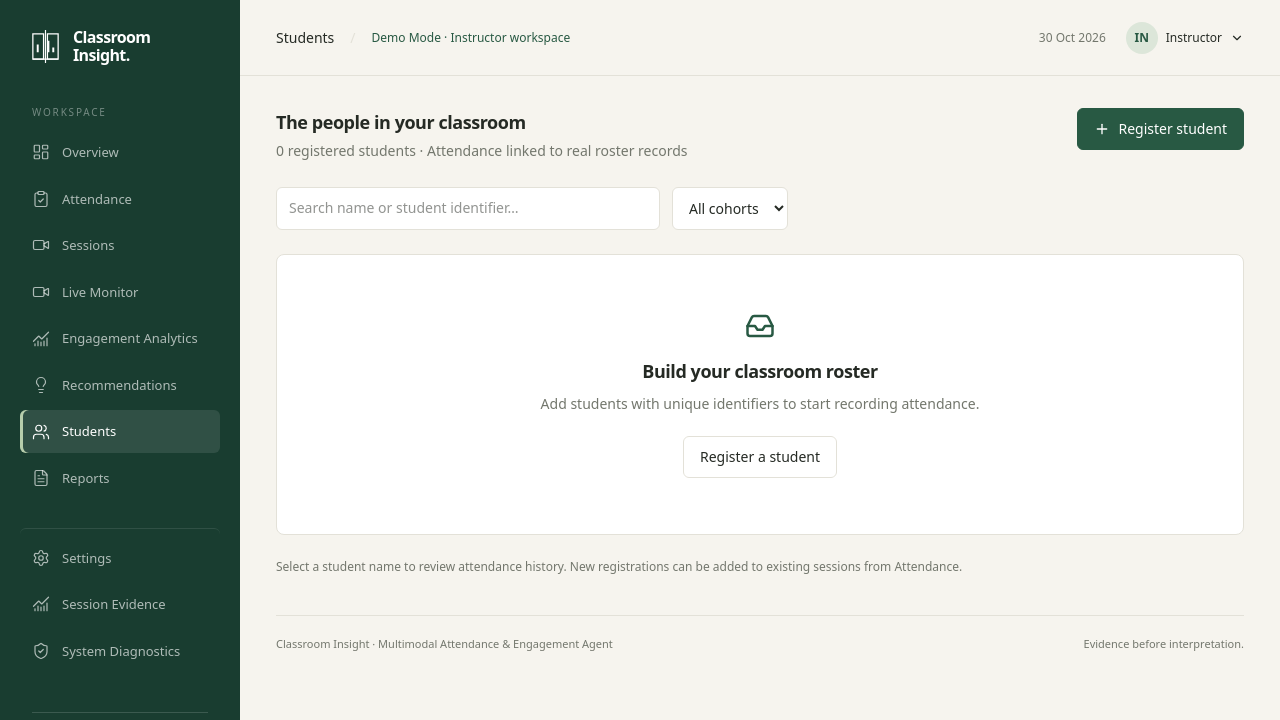
it: register student submits validated fields through backend
This screenshot has width=1280, height=720.
Click the button "Register student".
click(1161, 129)  # box [1078,108,1244,150]
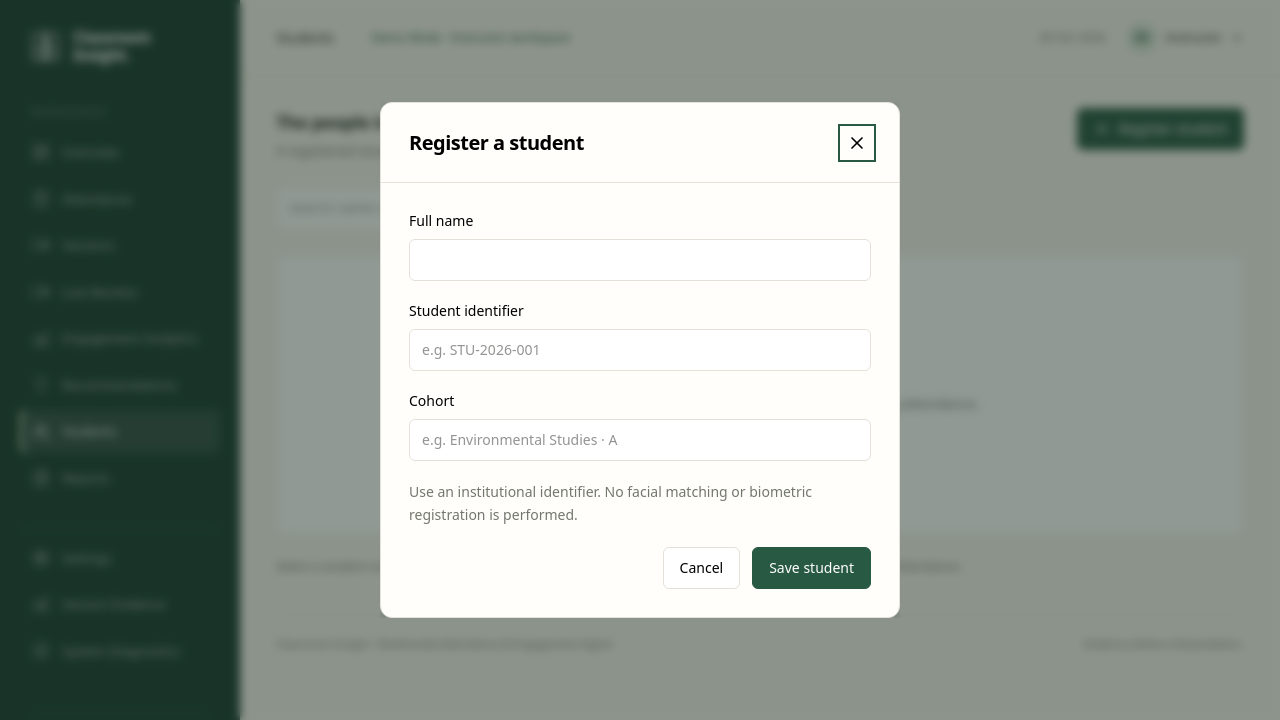
Type "Alex Green" into the field labelled "Full name".
click(640, 260); type("Alex Green")  # box [409,239,871,281]
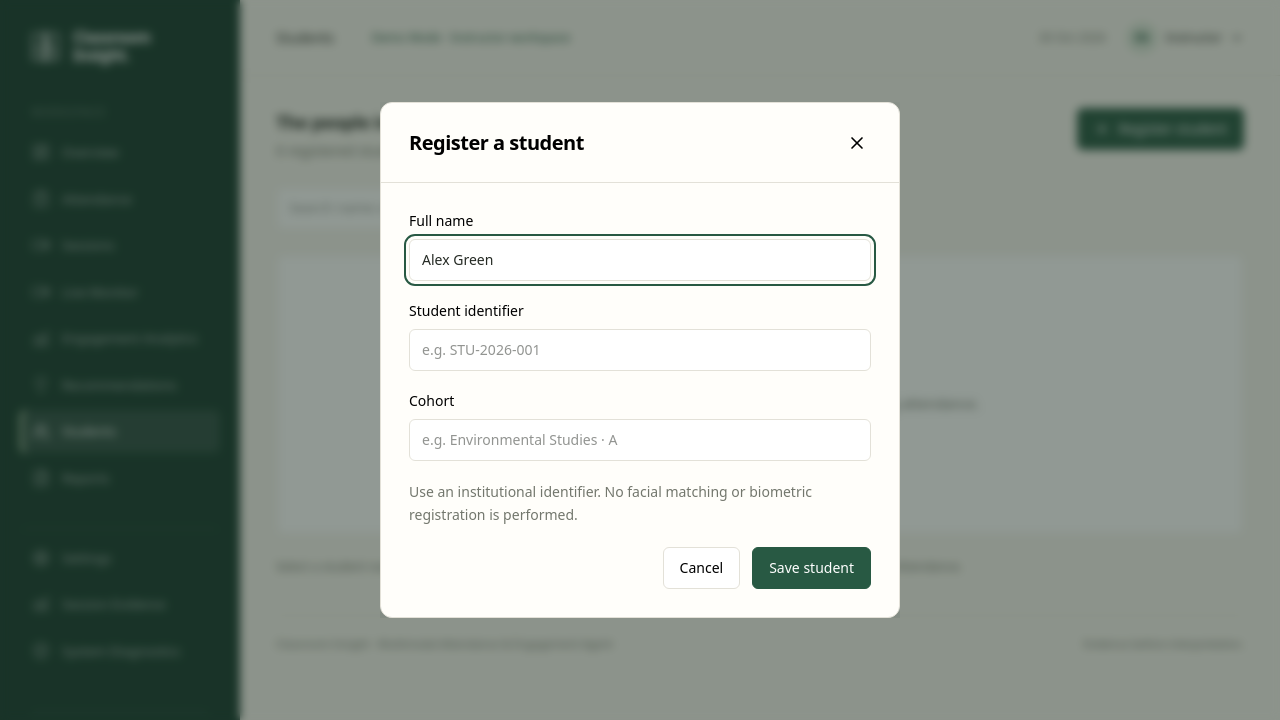
Type "STU-101" into the field labelled "Student identifier".
click(640, 350); type("STU-101")  # box [409,329,871,371]
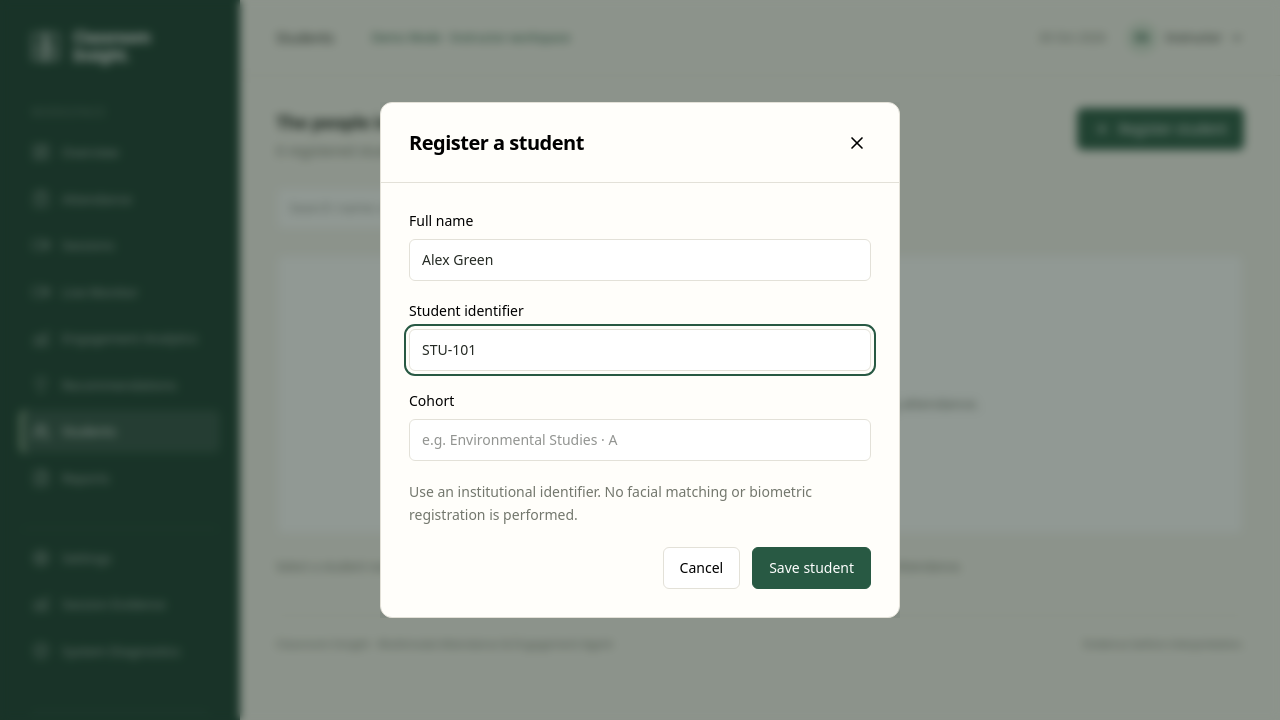
Type "Science" into the field labelled "Cohort".
click(640, 440); type("Science")  # box [409,419,871,461]
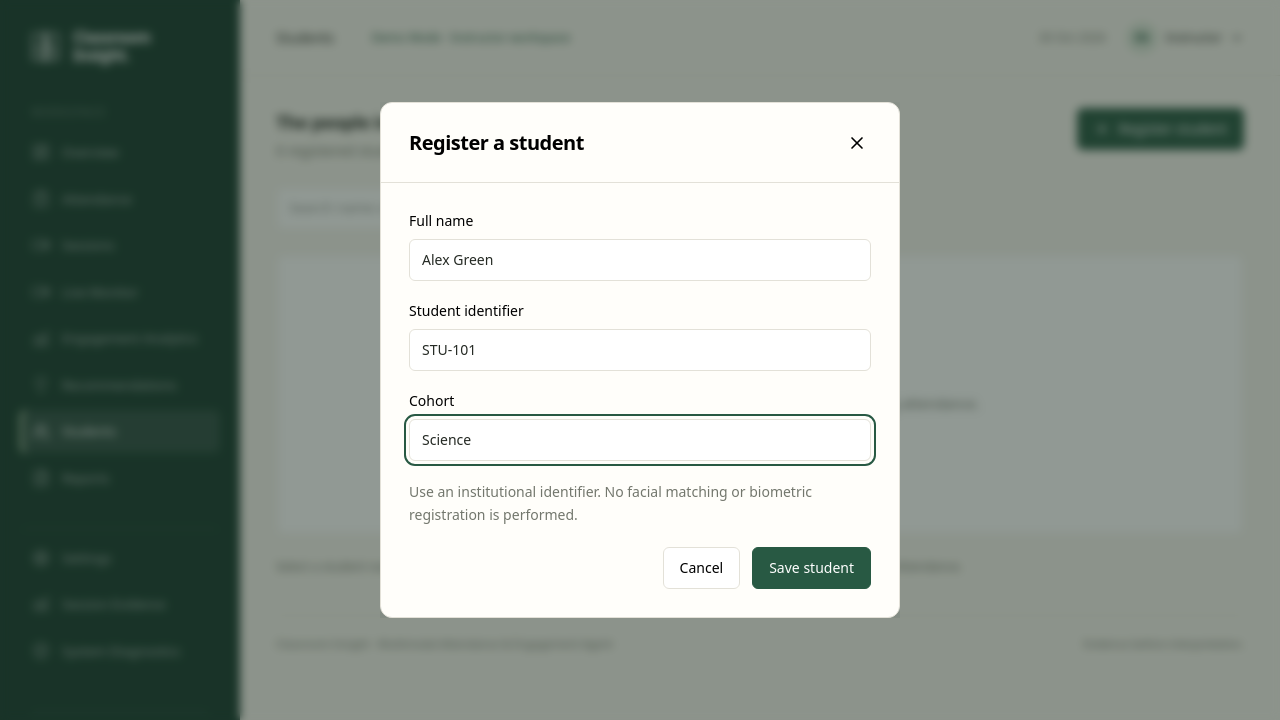
Click the button "Save student".
click(812, 568)  # box [752,547,871,589]
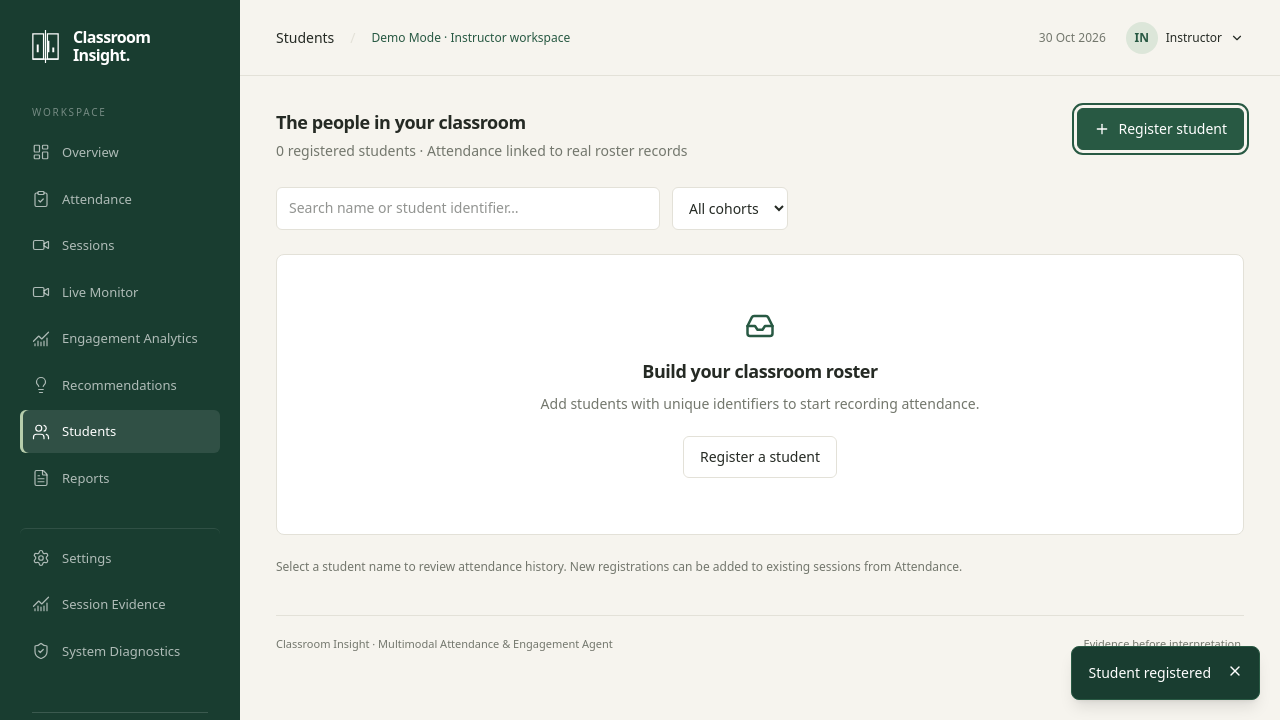
expect the dialog is gone: met
